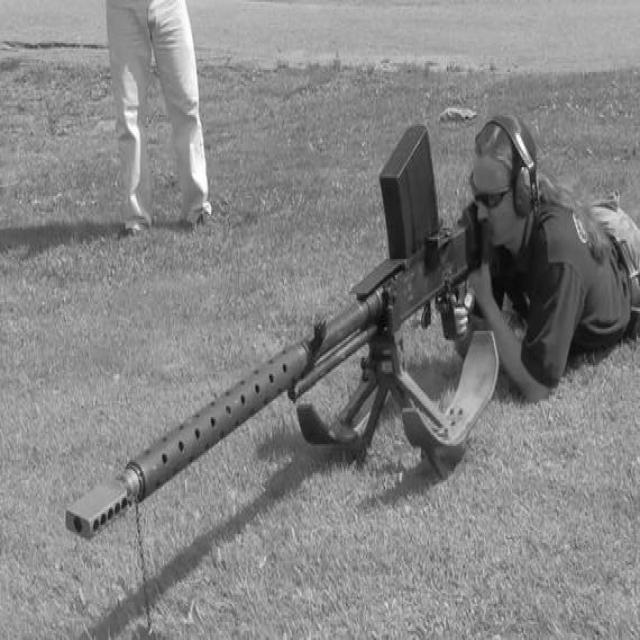gun: (64, 122, 500, 538)
